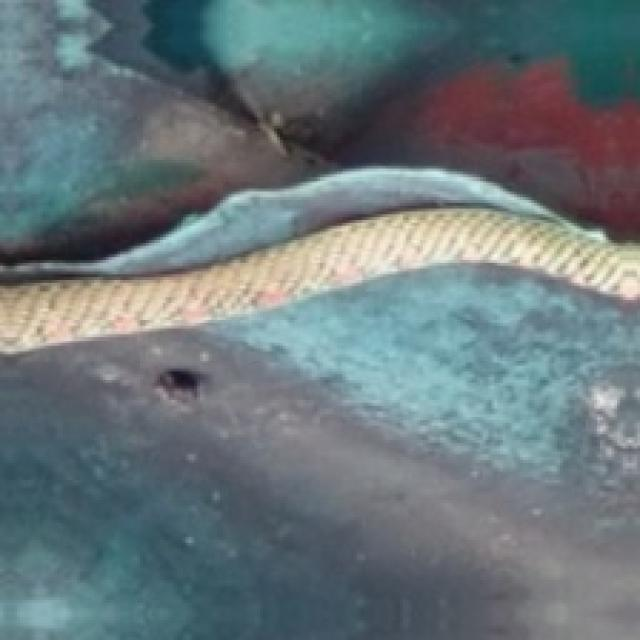paradise tree snake: (1, 209, 640, 353)
